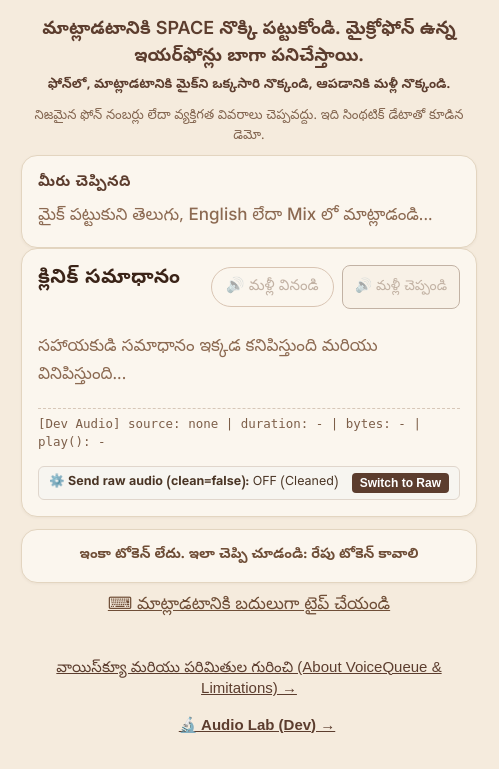
Patient App Component Tests (Vitest + RTL) › 21. ?dev=1 displays developer info for token id and number inside the token card
This screenshot has width=499, height=769.
(page scrolled)
Click the button "⌨ మాట్లాడటానికి బదులుగా టైప్ చేయండి": (249, 605) [100,583,398,627]
(page scrolled)
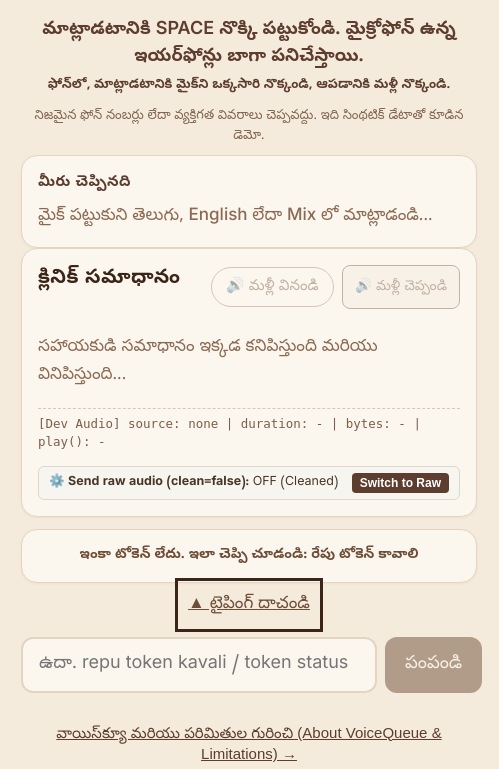
In the field: (199, 665) [21,637,377,693], type "repu token kavali"
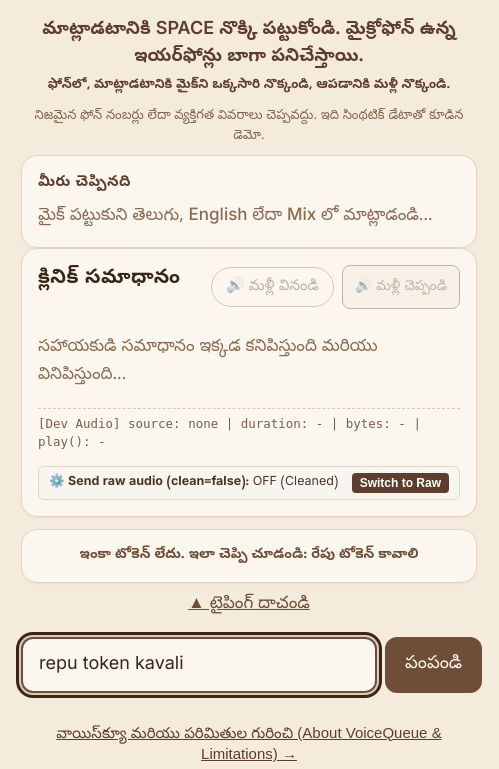
Click the button "పంపండి": (434, 665) [385,637,482,693]
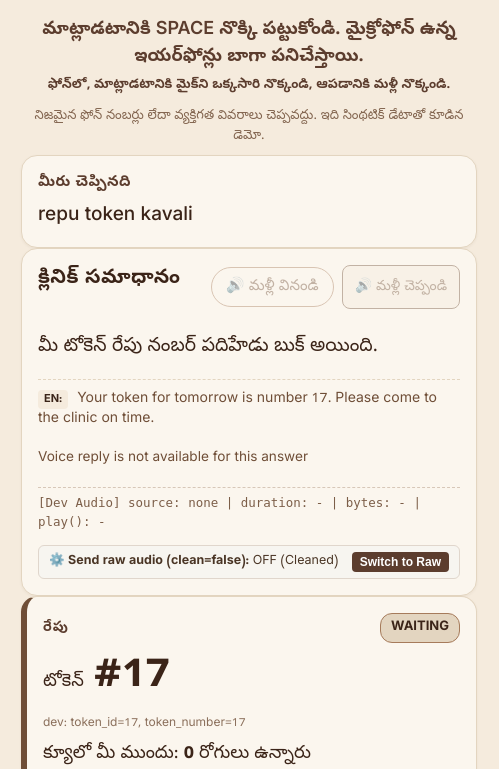
expect the text with test id "dev-token-info" reads "dev: token_id=17, token_number=17": met, box [43,716,246,732]
